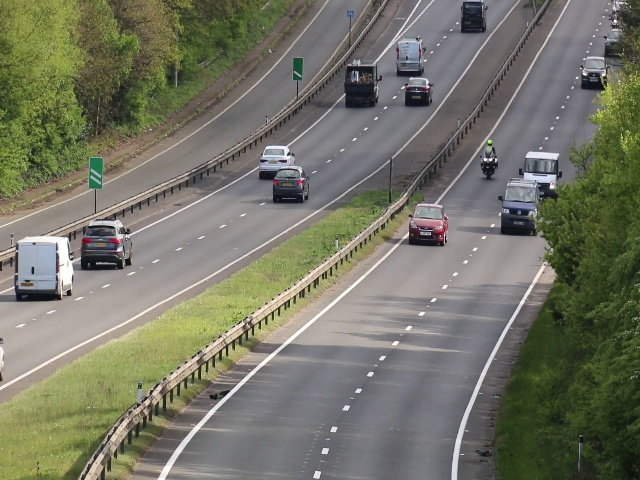car: (13, 236, 73, 300), (81, 219, 133, 268), (501, 179, 537, 234), (410, 199, 446, 247), (274, 167, 311, 201), (394, 38, 426, 75), (258, 144, 295, 176), (523, 153, 558, 185), (580, 54, 608, 90), (459, 1, 488, 35)
